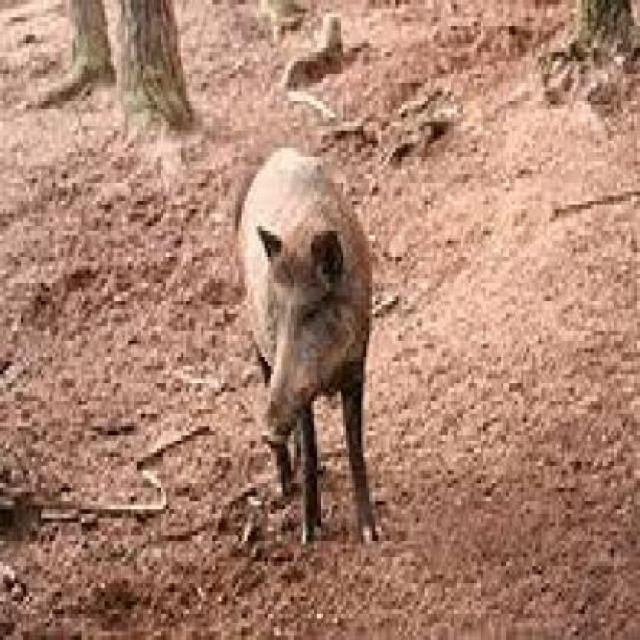Wild Boar: (226, 141, 392, 564)
